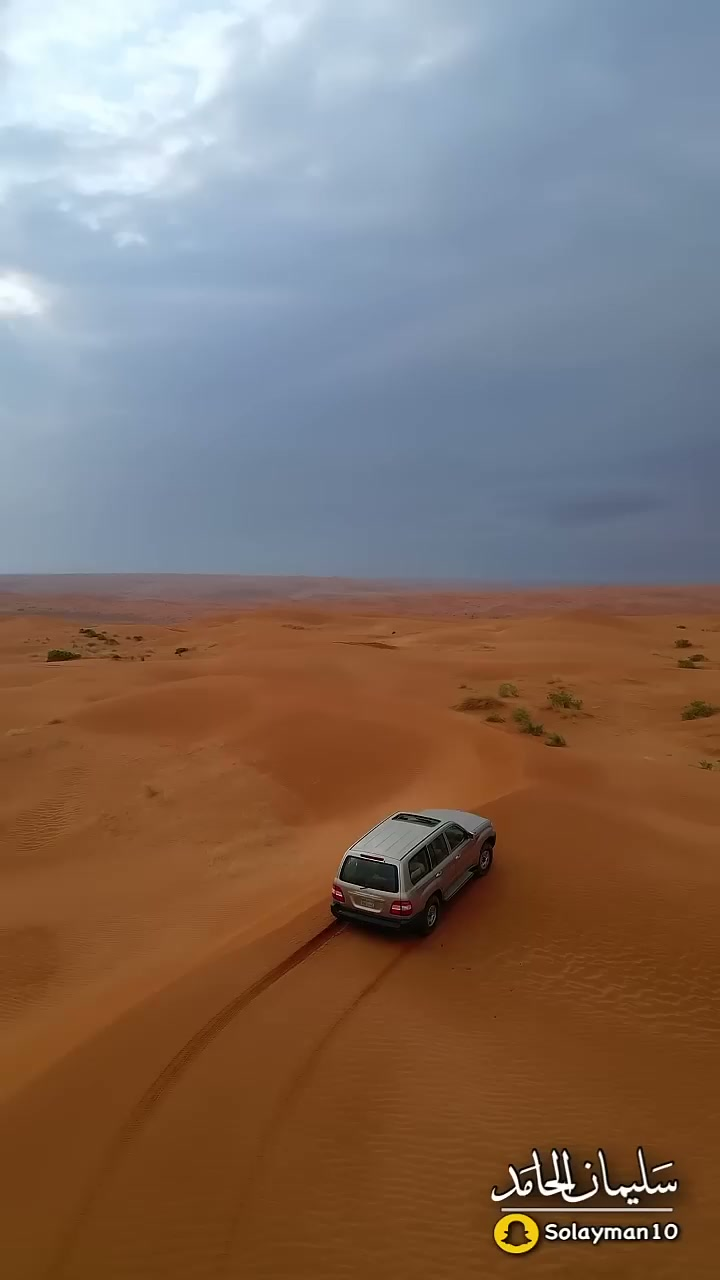vehicle_track: (46, 921, 346, 1279), (220, 945, 407, 1274)
